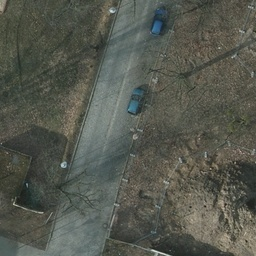car: (126, 86, 145, 117), (149, 8, 167, 40)
